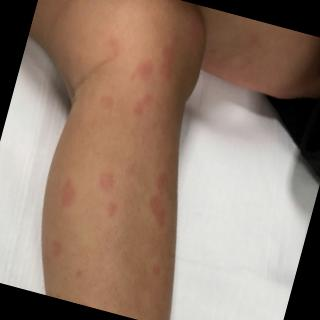urticaria: (140, 34, 186, 100)
